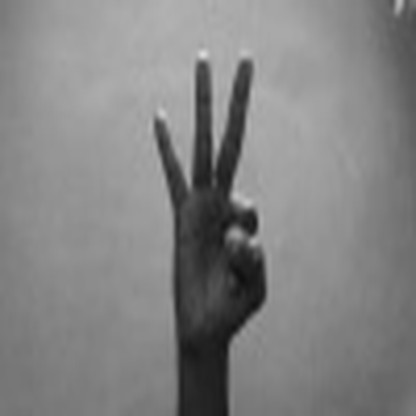f: (133, 47, 286, 342)
